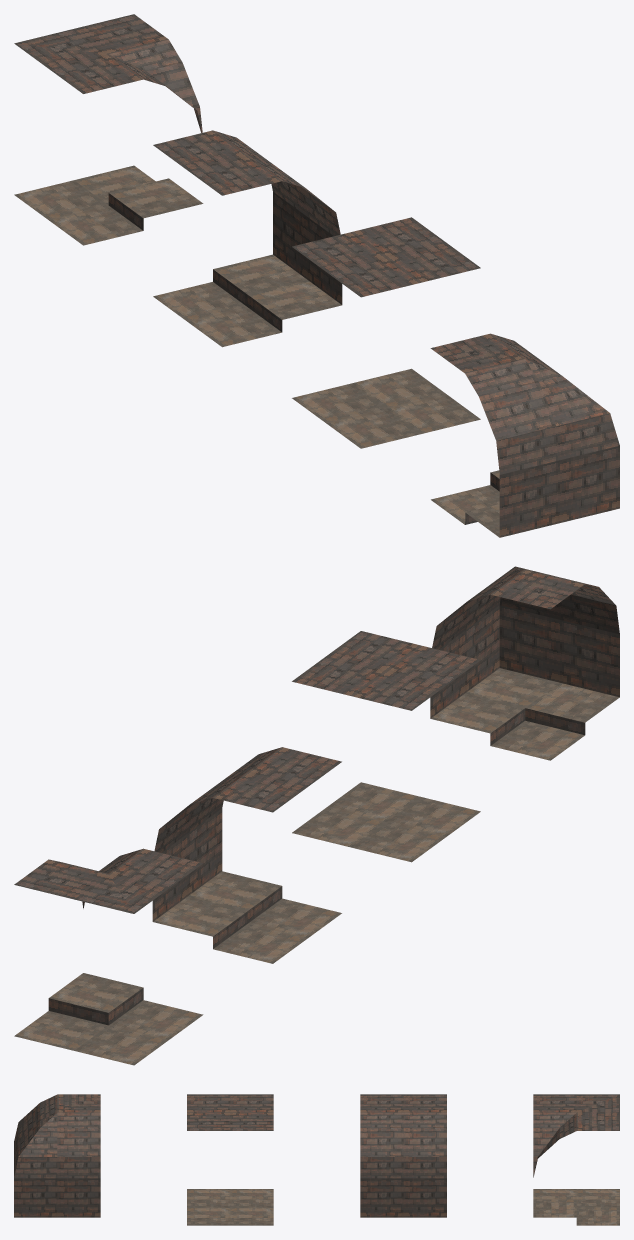
The model's file is tileset.glb.
3 renders of one model, top to bottom at view 1: azimuth 30°, elevation 25°; view 2: azimuth 150°, elevation 25°; view 3: azimuth 270°, elevation 25°, orthographic. The views are drawn at different scales.
Visible parts, largest first — view 1: corner-in-col, wall-col, corner-out-col, floor-col; view 2: corner-in-col, wall-col, floor-col, corner-out-col; view 3: wall-col, corner-in-col, corner-out-col, floor-col.
Part boxes in pixels (x1,y1,x2,y2): corner-in-col: [430, 333, 619, 537]; wall-col: [153, 130, 342, 347]; corner-out-col: [14, 14, 203, 245]; floor-col: [292, 217, 480, 448]; corner-in-col: [430, 566, 619, 760]; wall-col: [152, 747, 341, 963]; floor-col: [292, 631, 480, 862]; corner-out-col: [14, 848, 203, 1065]; wall-col: [360, 1094, 446, 1217]; corner-in-col: [14, 1094, 100, 1217]; corner-out-col: [533, 1094, 619, 1225]; floor-col: [187, 1094, 273, 1225].
Size of the model in its own units: 2 by 2.41 by 14.
1 material, 1 textured.
